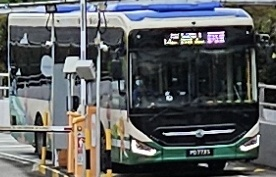bus: (206, 31, 225, 44)
